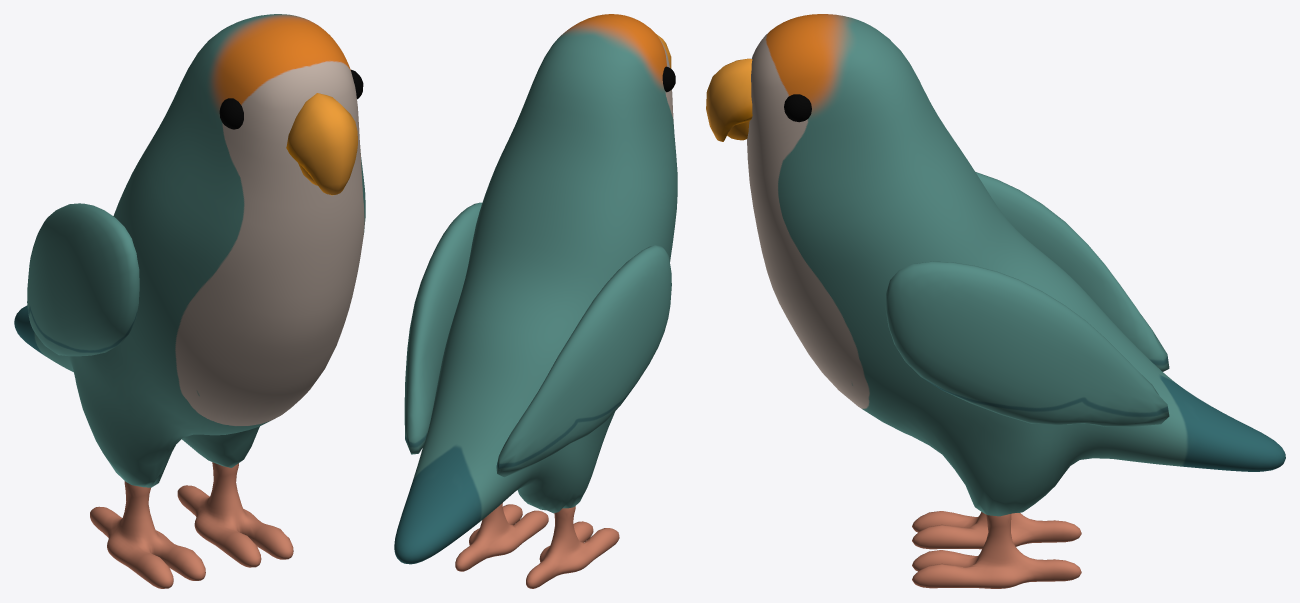
The picture shows the model from 3 angles, left to right: view 1: azimuth 30°, elevation 25°; view 2: azimuth 150°, elevation 25°; view 3: azimuth 270°, elevation 25°; orthographic projection. The views are drawn at different scales.
Visible parts, largest first — view 1: Lovebird; view 2: Lovebird; view 3: Lovebird.
Part boxes in pixels (x1,y1,x2,y2): Lovebird: [14, 14, 365, 588]; Lovebird: [394, 14, 677, 588]; Lovebird: [706, 14, 1285, 588].
Size of the model in its own units: 1.47 by 3.21 by 3.12.
Materials: 1 (1 with a texture image).
